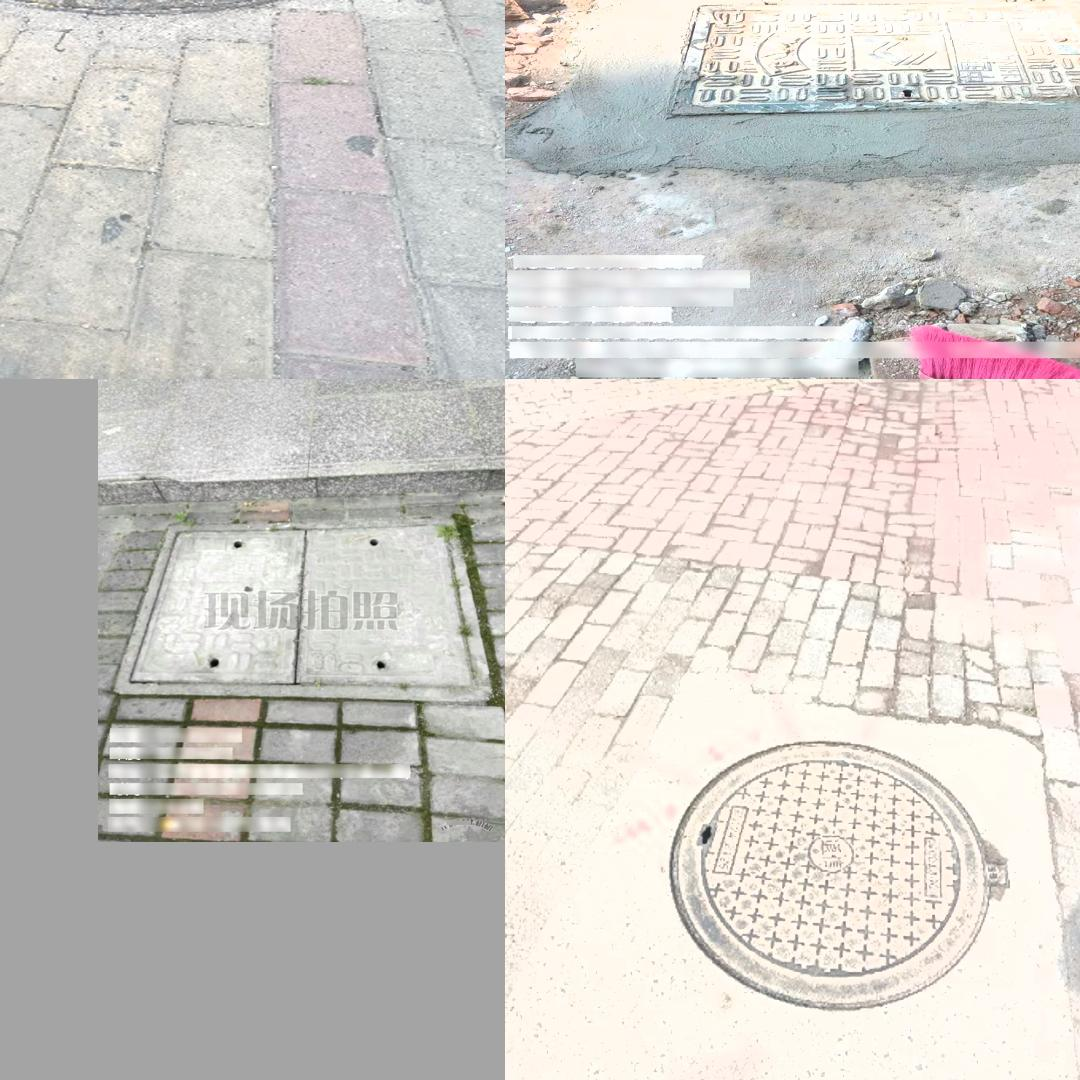good: (670, 740, 1008, 1009), (116, 522, 478, 692), (668, 0, 1080, 115), (0, 0, 397, 12)
